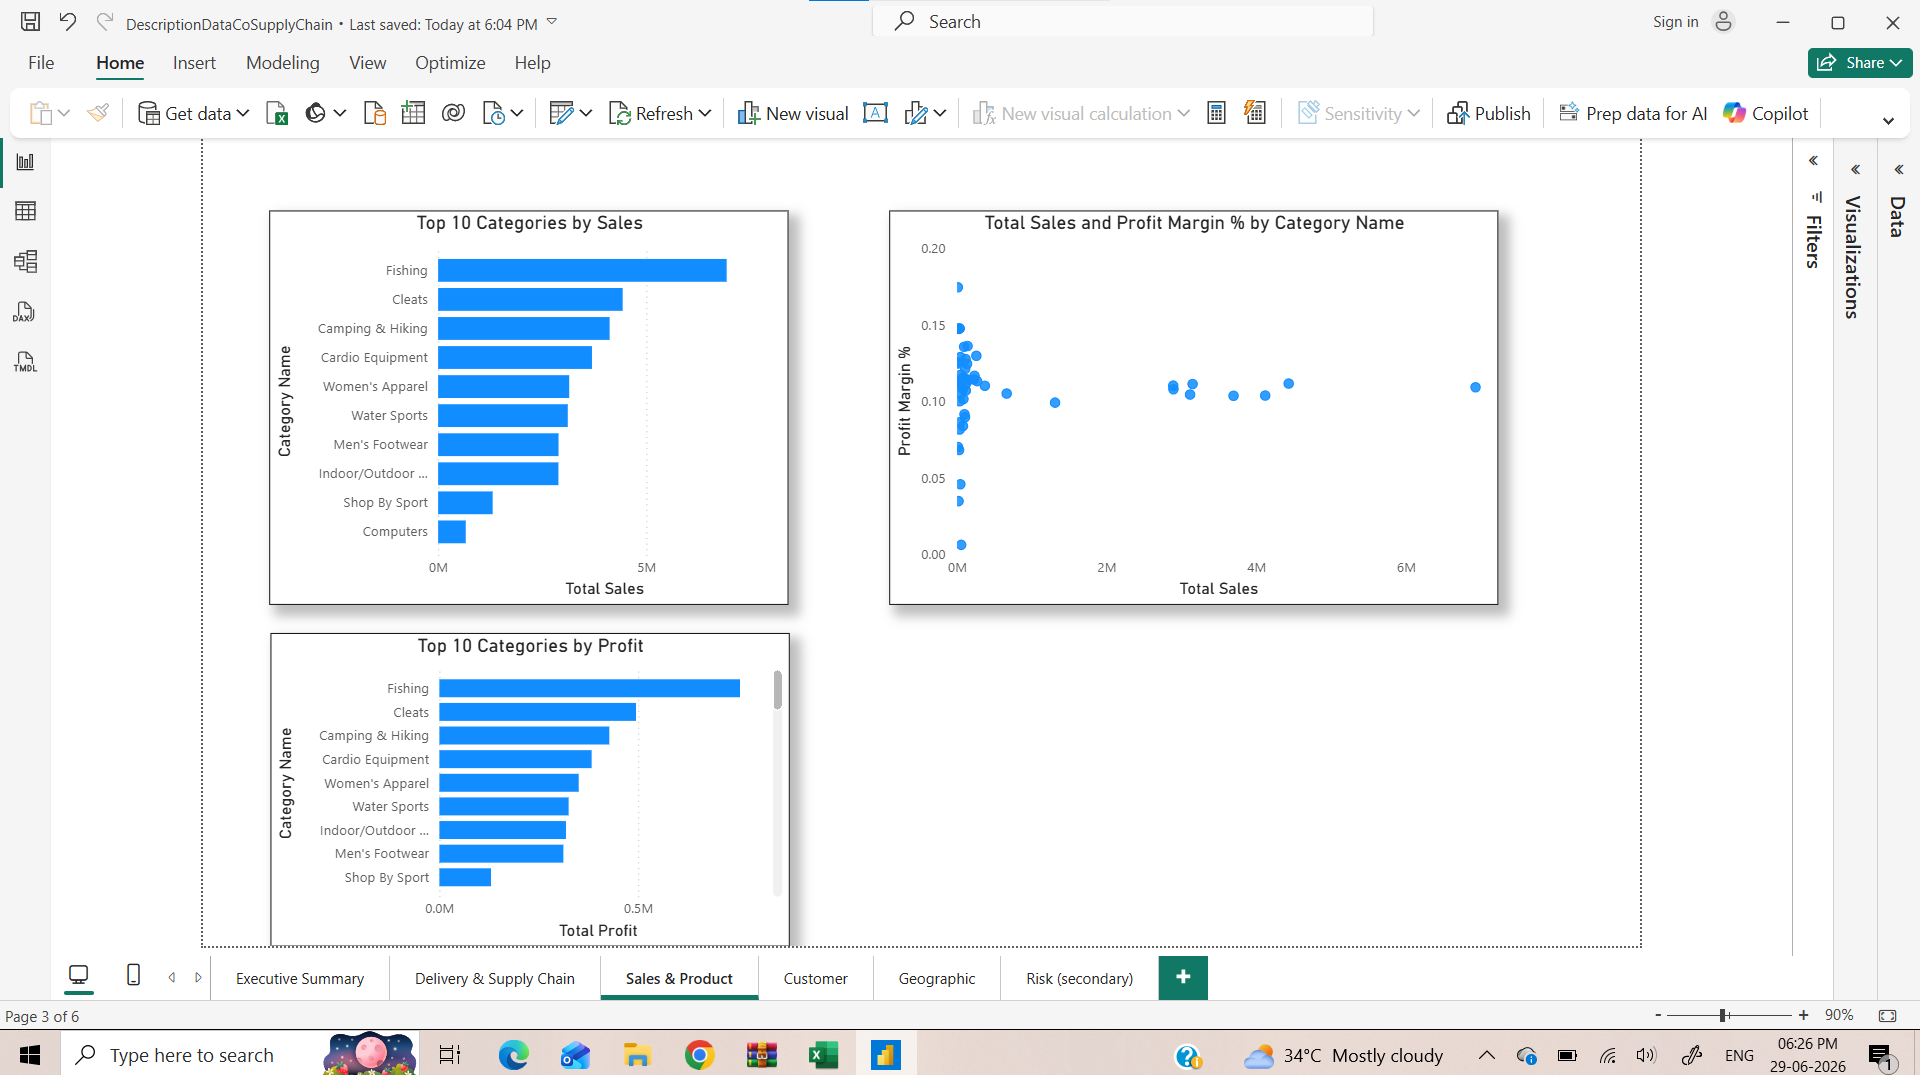

The page's visual inventory and layout, read from the dashboard file:
{"tool":"powerbi","page":{"name":" Sales & Product","canvas":[1280,720],"ordinal":2},"visuals":[{"type":"clusteredBarChart","title":"Top 10 Categories by Sales","fields":{"Category":["Dim_Product.Category Name"],"Y":["_Measures.Total Sales"]},"box":[59,64.5,462.4,351.3],"z":0},{"type":"scatterChart","fields":{"X":["_Measures.Total Sales"],"Y":["_Measures.Profit Margin %"],"Category":["Dim_Product.Category Name"]},"box":[611.1,64.1,542.2,351.2],"z":1000},{"type":"clusteredBarChart","title":"Top 10 Categories by Profit","fields":{"Category":["Dim_Product.Category Name"],"Y":["_Measures.Total Profit"]},"box":[60,441,462,279],"z":2000}]}

Visuals, with their boxes on the page's 1280x720 design canvas (x1, y1, x2, y2). These are canvas units, not pixel positions in the 1920x1075 screenshot, which may show the page scaled, cropped or inside an application window:
"Top 10 Categories by Sales" clusteredBarChart: x1=59, y1=64, x2=521, y2=416
scatterChart - _Measures.Total Sales x _Measures.Profit Margin %: x1=611, y1=64, x2=1153, y2=415
"Top 10 Categories by Profit" clusteredBarChart: x1=60, y1=441, x2=522, y2=720
